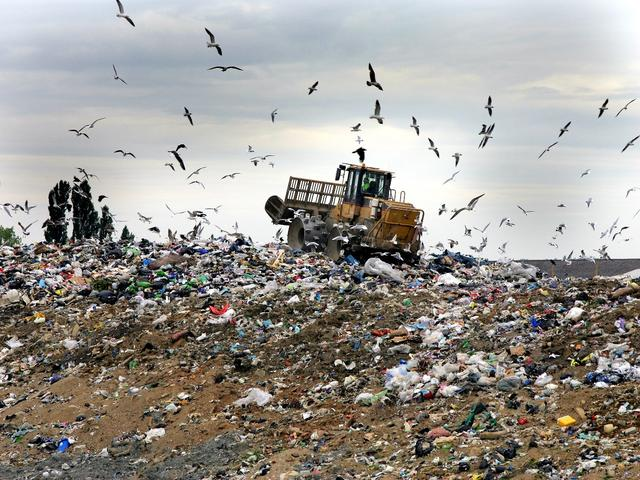garbage: (31, 260, 526, 374)
